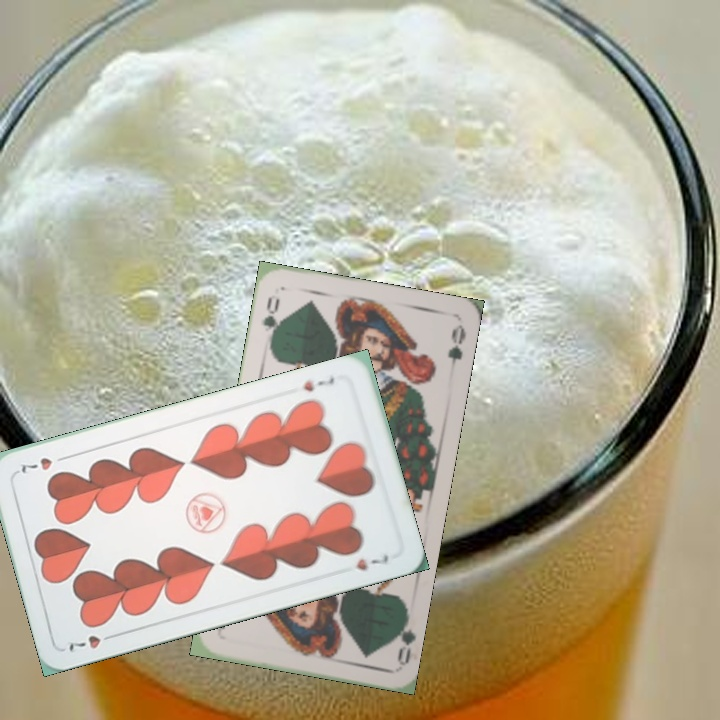GO: (387, 607, 417, 666), (259, 293, 283, 348)
H7: (64, 629, 120, 654), (299, 370, 337, 394)
